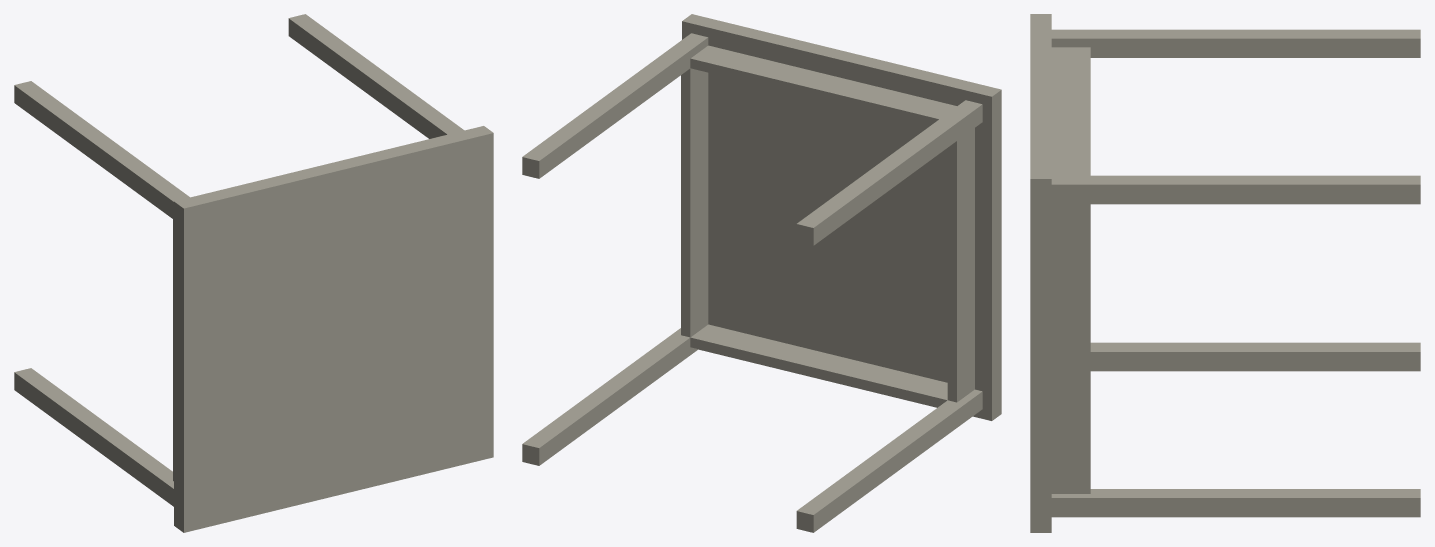
File: table.obj
The picture shows the model from 3 angles, left to right: view 1: azimuth 30°, elevation 25°; view 2: azimuth 150°, elevation 25°; view 3: azimuth 270°, elevation 25°; orthographic projection. The views are drawn at different scales.
Parts seen in each view (by area): view 1: table; view 2: table; view 3: table.
Part boxes in pixels (x1,y1,x2,y2): table: [14, 14, 493, 532]; table: [522, 14, 1001, 532]; table: [1030, 14, 1420, 532].
Size of the model in its own units: 1 by 1 by 1.
Materials: 1 (1 with a texture image).
